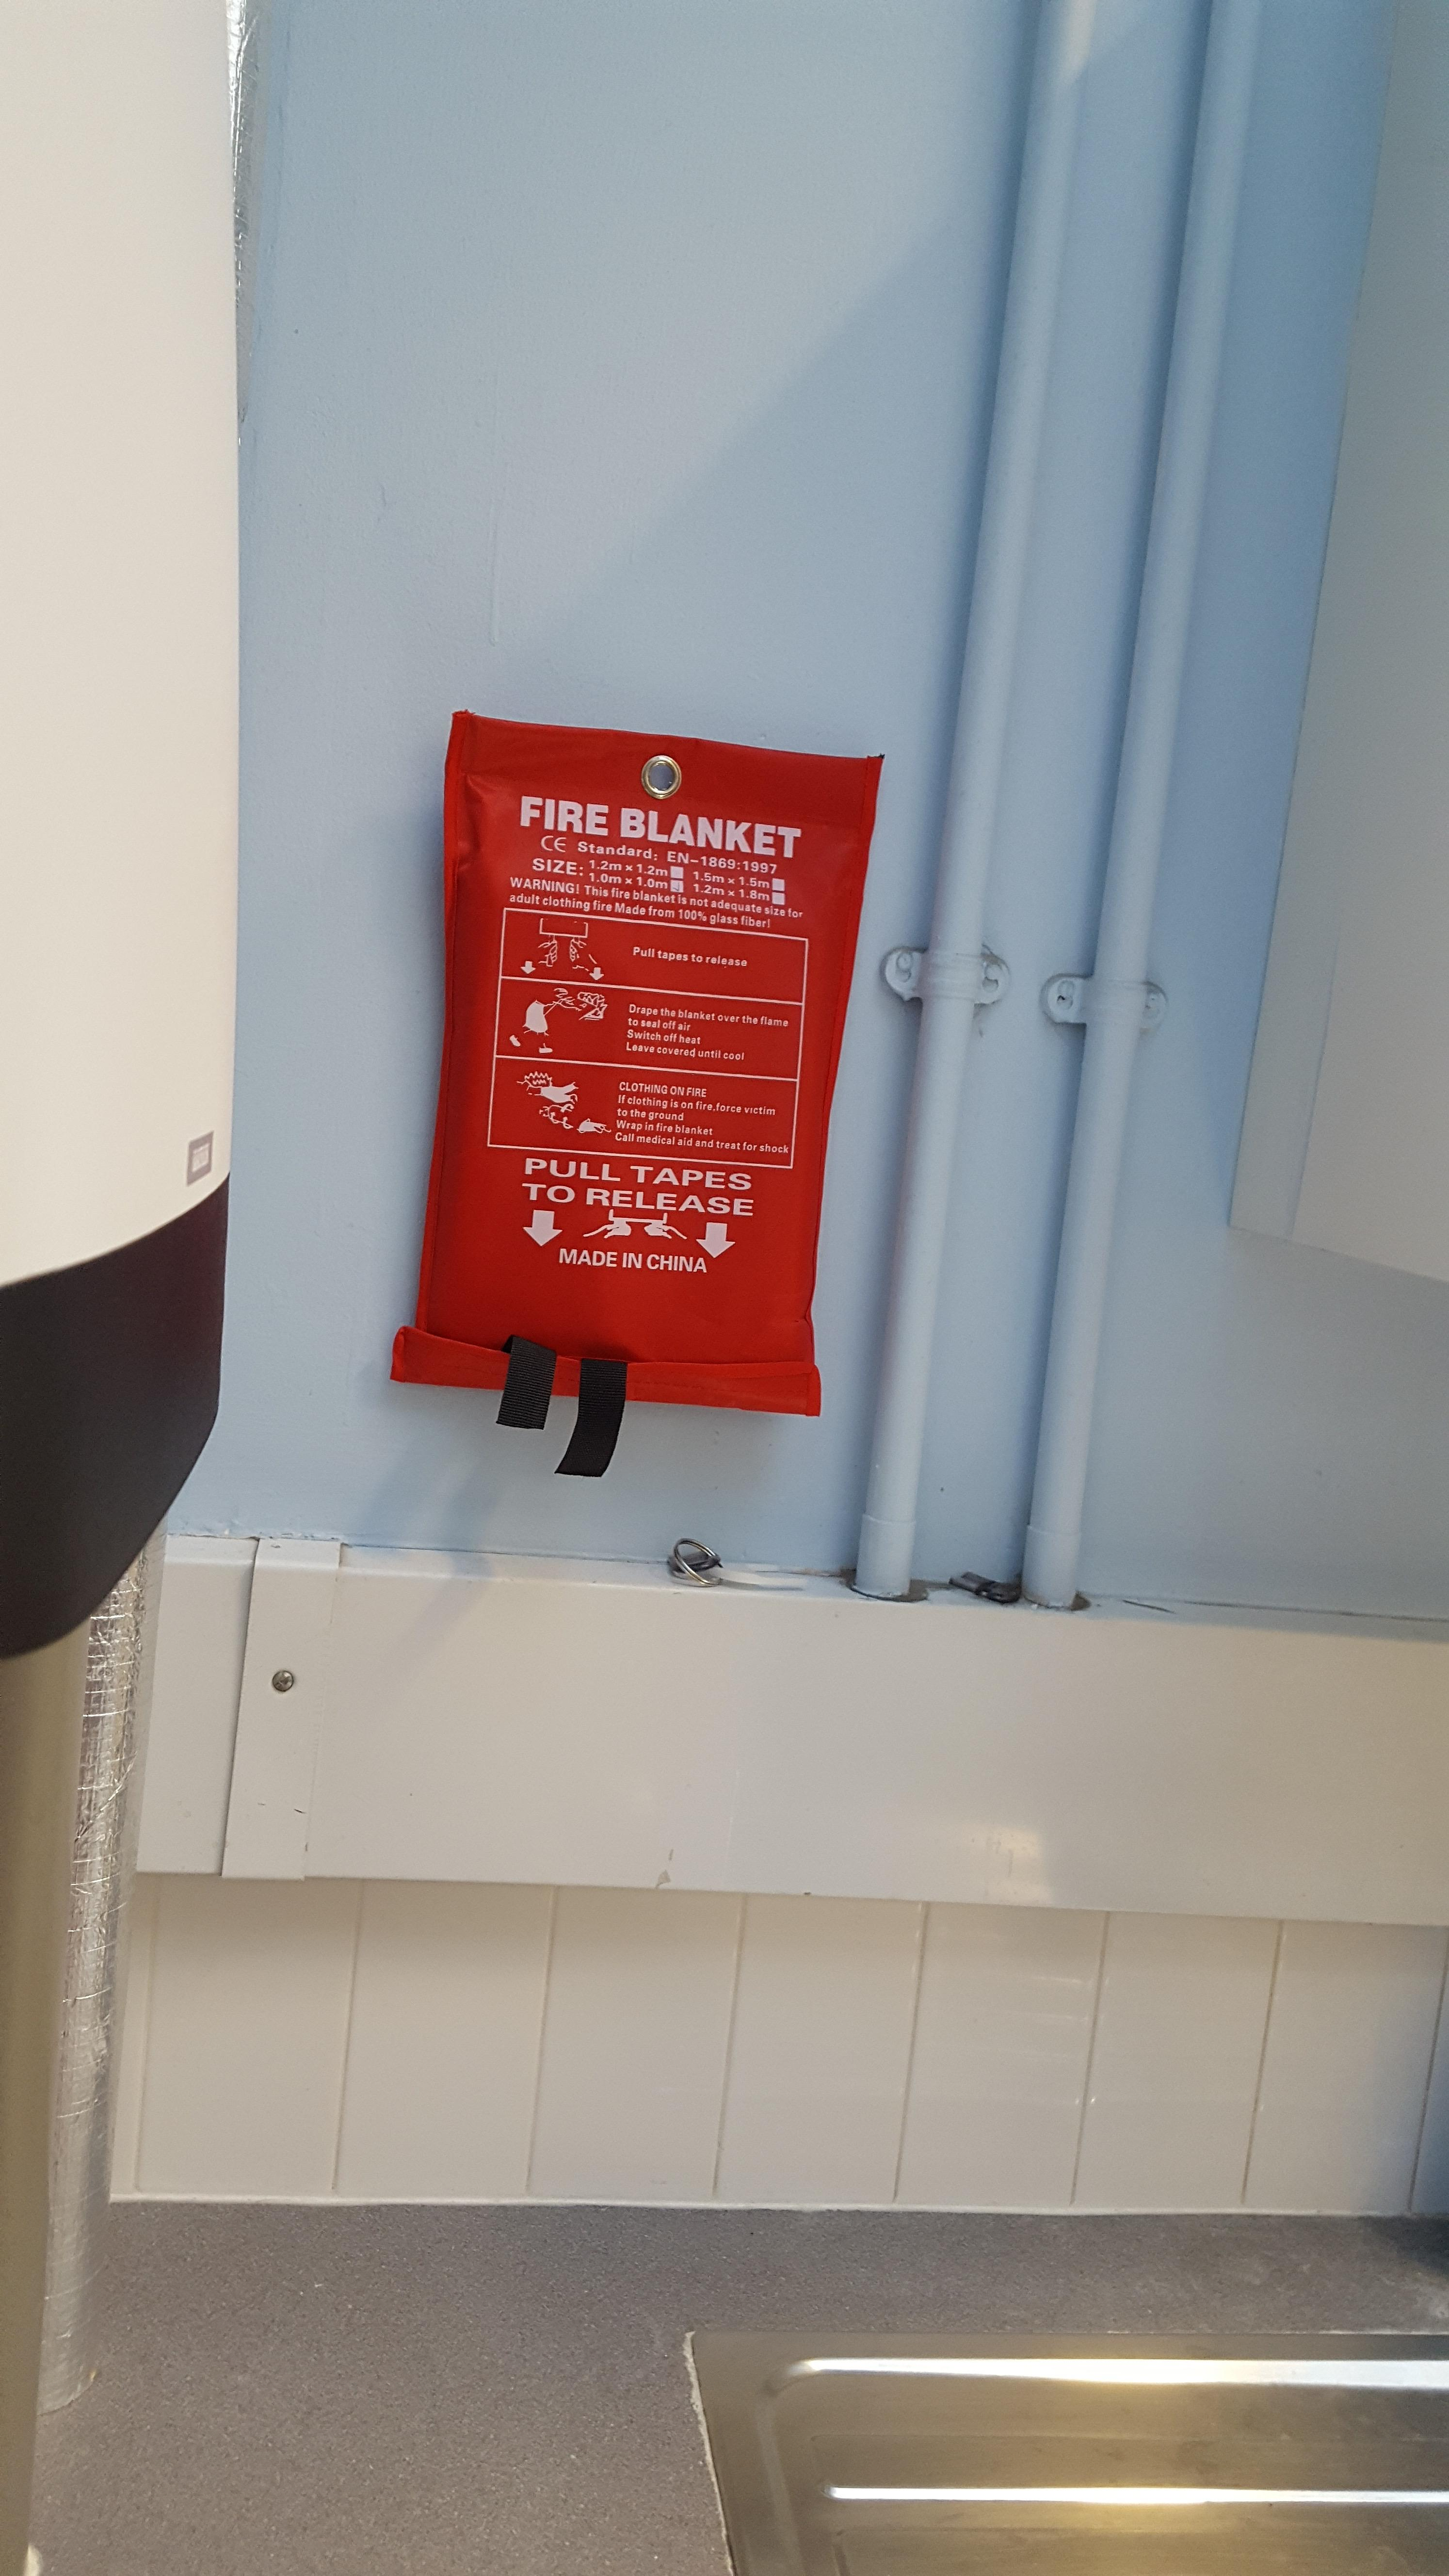blanket: (389, 711, 885, 1417)
